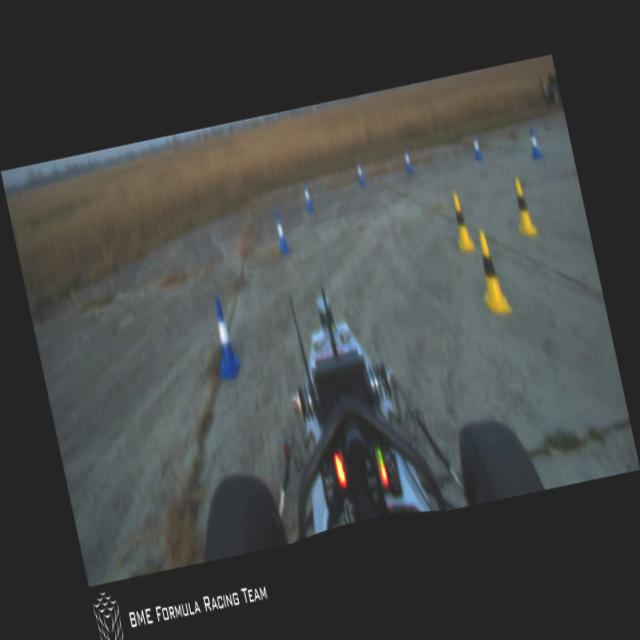blue_cone: (206, 302, 244, 382), (271, 216, 291, 260), (525, 125, 543, 158), (300, 181, 314, 213), (470, 130, 482, 160), (354, 160, 366, 188), (402, 146, 412, 174)
yellow_cone: (471, 228, 512, 317), (508, 178, 537, 238), (448, 191, 473, 251)
